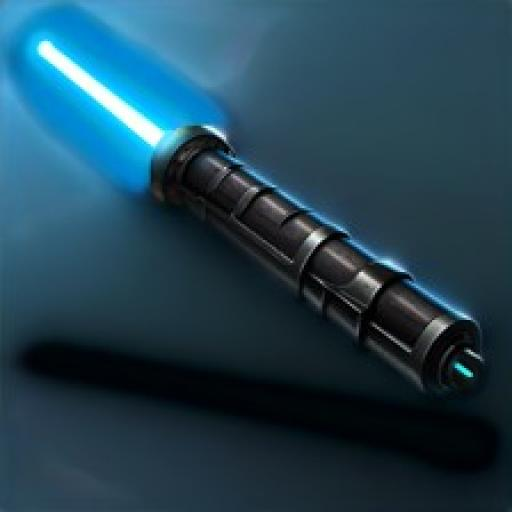lightsaber: (36, 38, 486, 393)
